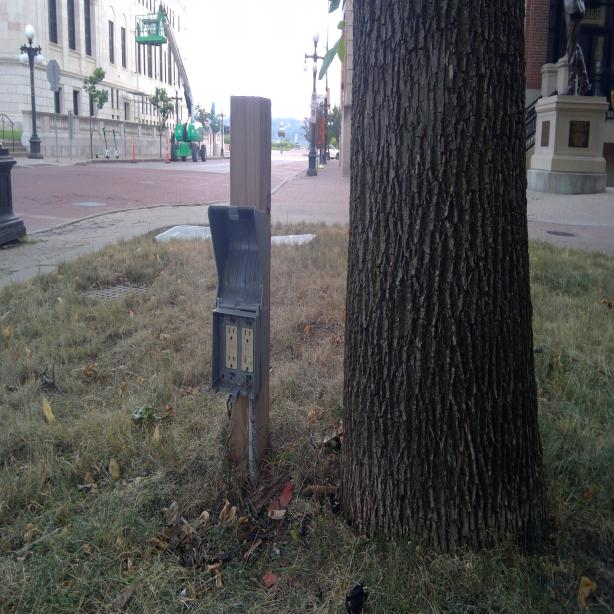typeb: (227, 351, 237, 369), (227, 324, 236, 343), (244, 328, 252, 346), (243, 355, 250, 371)
